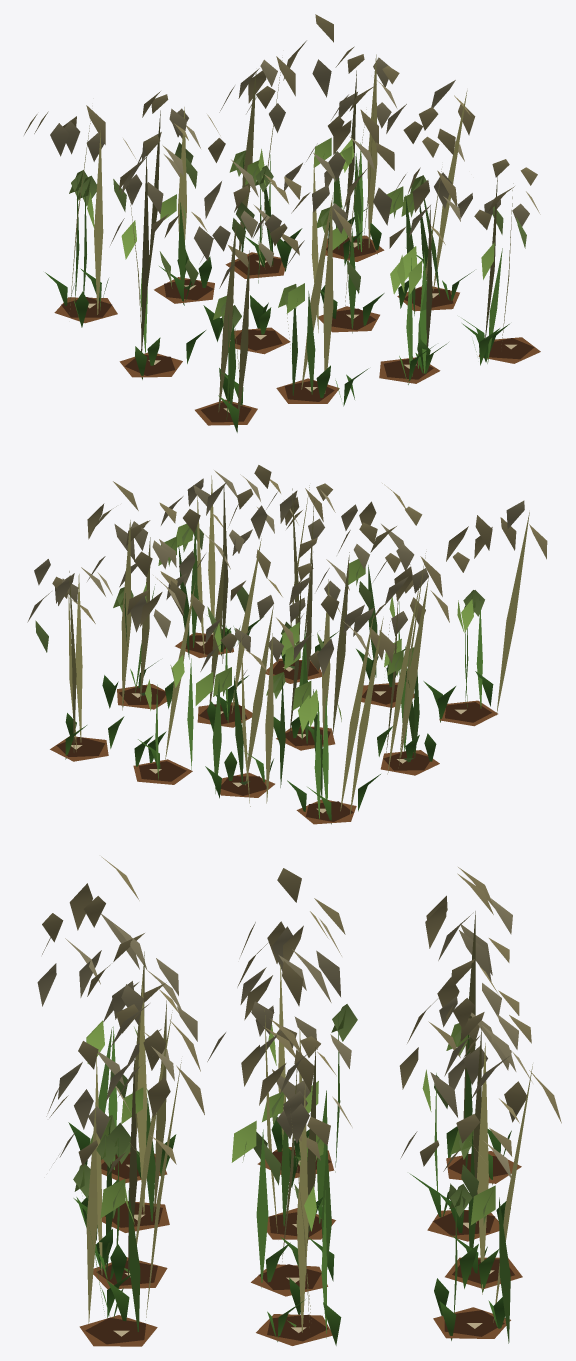
Rendered from oats.glb.
The picture shows the model from 3 angles, top to bottom: view 1: azimuth 30°, elevation 25°; view 2: azimuth 150°, elevation 25°; view 3: azimuth 270°, elevation 25°; orthographic projection. The views are drawn at different scales.
Parts seen in each view (by area): view 1: crop-oats-3, crop-oats-0, crop-oats-2, crop-oats-3-far, crop-oats-1, crop-oats-2-far; view 2: crop-oats-3, crop-oats-0, crop-oats-3-far, crop-oats-2, crop-oats-1, crop-oats-2-far; view 3: crop-oats-3, crop-oats-2, crop-oats-0, crop-oats-3-far, crop-oats-1, crop-oats-2-far.
Boxes of the visible parts, x1,y1,x2,y2 form: crop-oats-3: [24, 14, 540, 420]; crop-oats-0: [54, 235, 540, 425]; crop-oats-2: [69, 137, 526, 404]; crop-oats-3-far: [34, 54, 537, 412]; crop-oats-1: [45, 208, 509, 432]; crop-oats-2-far: [78, 146, 428, 419]; crop-oats-3: [34, 465, 547, 814]; crop-oats-0: [50, 632, 497, 824]; crop-oats-3-far: [27, 470, 492, 811]; crop-oats-2: [35, 523, 484, 818]; crop-oats-1: [65, 615, 493, 824]; crop-oats-2-far: [170, 526, 482, 812]; crop-oats-3: [37, 856, 561, 1327]; crop-oats-2: [73, 1004, 510, 1343]; crop-oats-0: [79, 1147, 522, 1346]; crop-oats-3-far: [59, 873, 519, 1332]; crop-oats-1: [68, 1117, 511, 1345]; crop-oats-2-far: [100, 1024, 475, 1331].
Bounding box in the file's own units: 1.84 × 1.03 × 1.73.
